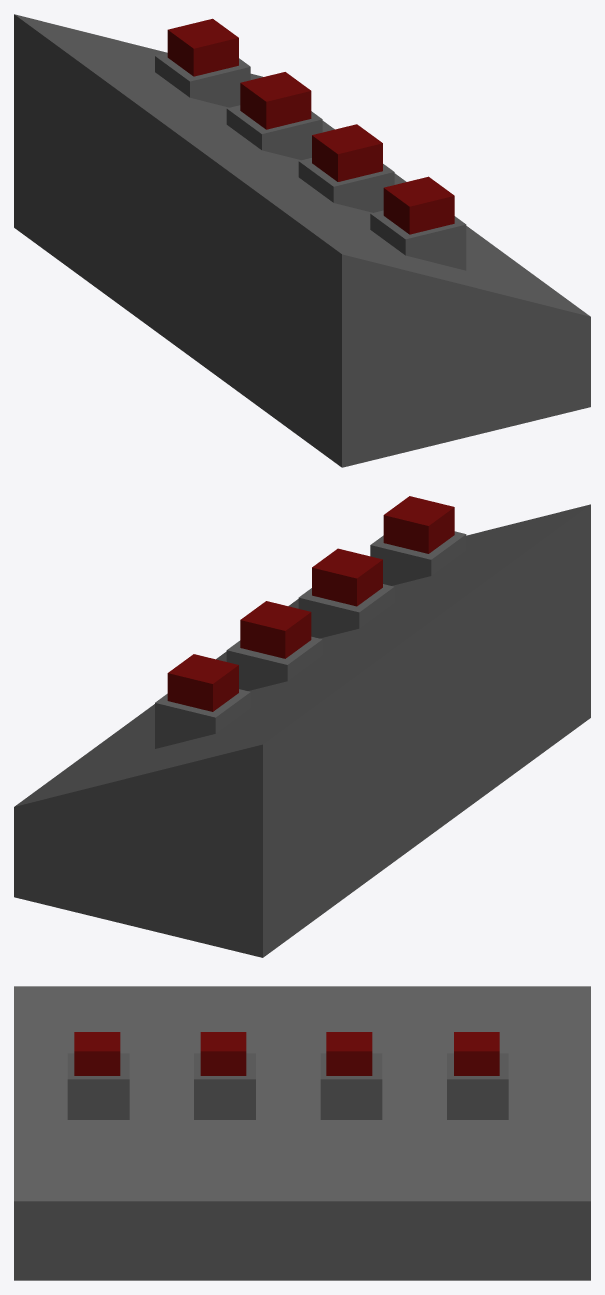
The model's file is Button Console.glb.
3 renders of one model, top to bottom at view 1: azimuth 30°, elevation 25°; view 2: azimuth 150°, elevation 25°; view 3: azimuth 270°, elevation 25°, orthographic. The views are drawn at different scales.
Visible parts, largest first — view 1: Console, Button1, Button3, Button4, Button2; view 2: Console, Button3, Button4, Button1, Button2; view 3: Console, Button2, Button1, Button3, Button4.
Boxes of the visible parts, <box> form: Console: <box>14,14,590,467</box>; Button1: <box>383,176,454,234</box>; Button3: <box>240,72,311,129</box>; Button4: <box>167,18,238,76</box>; Button2: <box>312,124,382,181</box>; Console: <box>14,504,590,957</box>; Button3: <box>240,601,311,658</box>; Button4: <box>167,654,238,711</box>; Button1: <box>383,496,454,553</box>; Button2: <box>312,548,382,606</box>; Console: <box>14,986,590,1280</box>; Button2: <box>200,1032,246,1075</box>; Button1: <box>74,1032,120,1075</box>; Button3: <box>326,1032,372,1075</box>; Button4: <box>454,1032,499,1075</box>.
Size of the model in its own units: 2 by 1.64 by 4.57.
